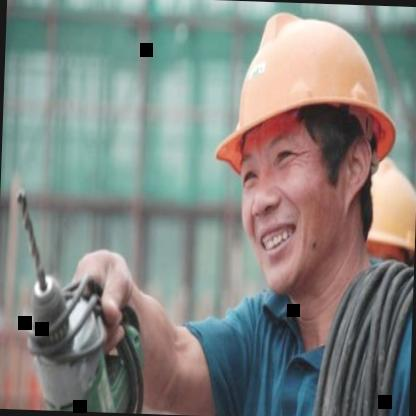helmet: (195, 0, 402, 328)
